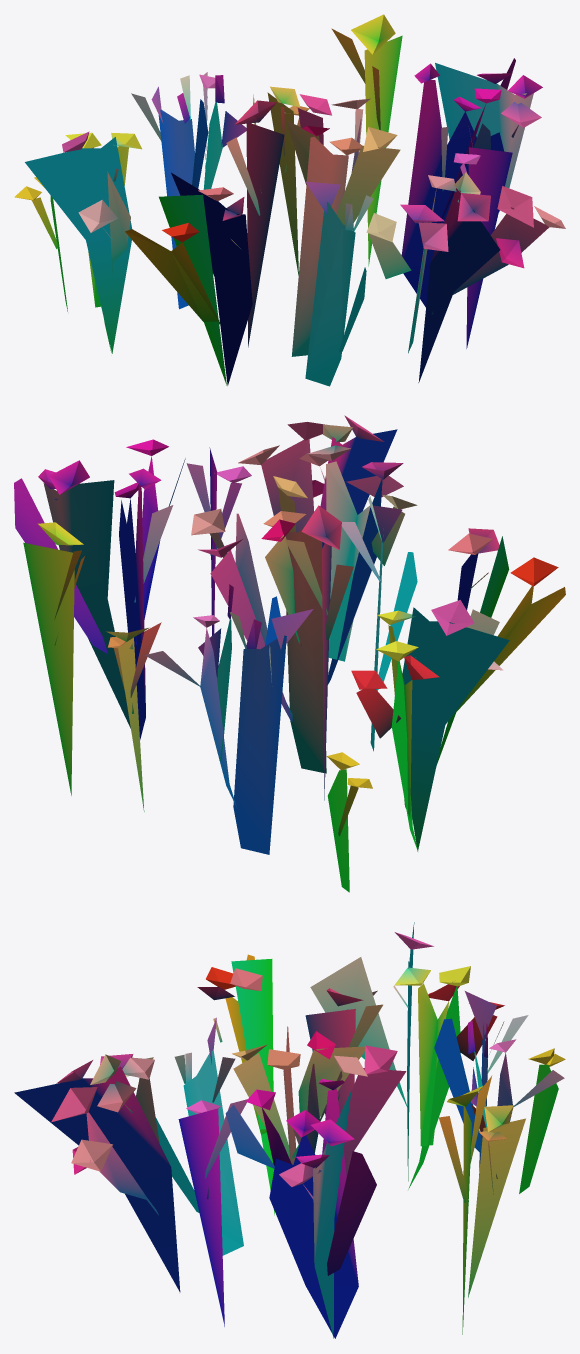
The model's file is Nordic_Coastal_Groundcover_vlqkdeaja_Mid_vlqkdeaja_VarB_LOD3.fbx.
3 renders of one model, top to bottom at view 1: azimuth 30°, elevation 25°; view 2: azimuth 150°, elevation 25°; view 3: azimuth 270°, elevation 25°, orthographic. The views are drawn at different scales.
Visible parts, largest first — view 1: _tbtj_VarB_LOD5; view 2: _tbtj_VarB_LOD5; view 3: _tbtj_VarB_LOD5.
Part boxes in pixels (bbox=[...]): _tbtj_VarB_LOD5: bbox=[14, 14, 565, 386]; _tbtj_VarB_LOD5: bbox=[14, 415, 565, 892]; _tbtj_VarB_LOD5: bbox=[14, 922, 565, 1338].
Size of the model in its own units: 99.38 by 51.52 by 95.82.
